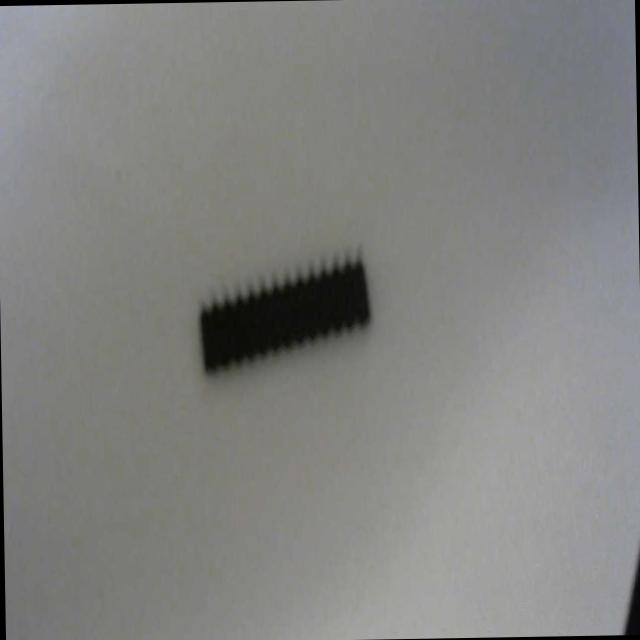atmega: (194, 242, 374, 381)
